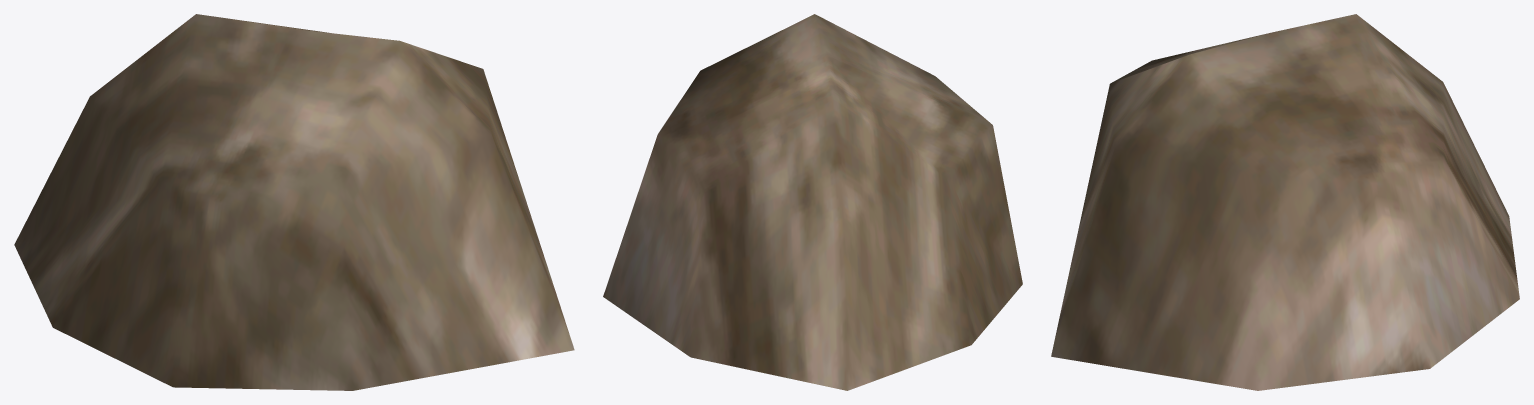
The model's file is OVERHILL_A_01_ROCK204.fbx.
3 renders of one model, left to right at view 1: azimuth 30°, elevation 25°; view 2: azimuth 150°, elevation 25°; view 3: azimuth 270°, elevation 25°, orthographic. The views are drawn at different scales.
Visible parts, largest first — view 1: OVERHILL_A_01_ROCK204; view 2: OVERHILL_A_01_ROCK204; view 3: OVERHILL_A_01_ROCK204.
Part boxes in pixels (x1,y1,x2,y2): OVERHILL_A_01_ROCK204: (14,14,574,390); OVERHILL_A_01_ROCK204: (603,14,1022,390); OVERHILL_A_01_ROCK204: (1051,14,1519,390).
Bounding box in the file's own units: 7174 × 4301 × 7101.
1 material, 1 textured.
